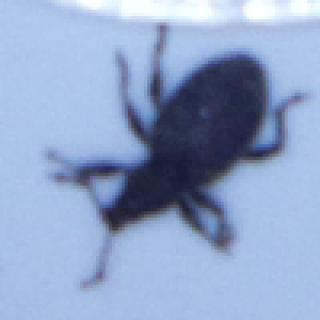bvw: (45, 25, 314, 288)
